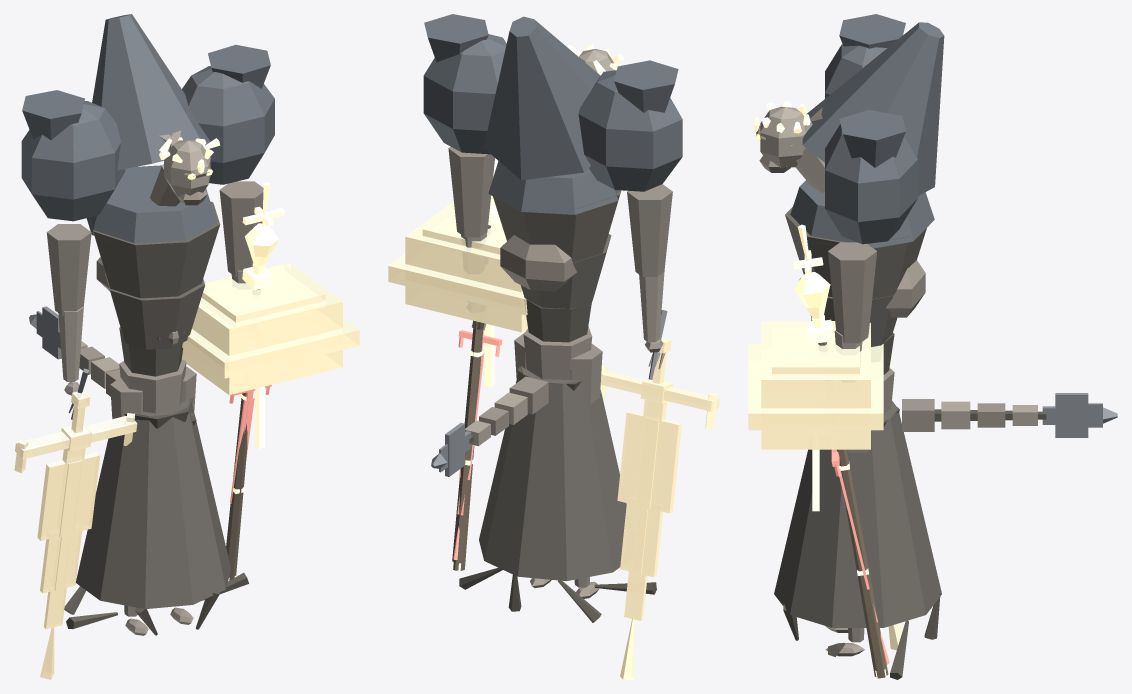
The model's file is morgott.glb.
The picture shows the model from 3 angles, left to right: view 1: azimuth 30°, elevation 25°; view 2: azimuth 150°, elevation 25°; view 3: azimuth 270°, elevation 25°; orthographic projection. The views are drawn at different scales.
Parts seen in each view (by area): view 1: robe0, cloak, capL, hammerHead, capR, tChest, tCollar, hammerFace, tBelly, hammerCrown, armLUpper, gbladeA (+22 smaller); view 2: robe0, cloak, capL, capR, hammerHead, tChest, tCollar, gbladeA, armLUpper, armRUpper, hammerFace, tBack (+22 smaller); view 3: robe0, cloak, capR, hammerHead, hammerFace, armRUpper, hammerCrown, tChest, tCollar, cowlR, staffShaft, skull (+9 smaller).
Boxes of the visible parts, <box> form: robe0: <box>76,399,231,608</box>; cloak: <box>92,14,210,170</box>; capL: <box>21,101,125,221</box>; hammerHead: <box>182,264,342,394</box>; capR: <box>182,66,274,184</box>; tChest: <box>90,201,220,298</box>; tCollar: <box>86,165,216,243</box>; hammerFace: <box>182,318,359,378</box>; tBelly: <box>105,273,204,349</box>; hammerCrown: <box>201,264,325,322</box>; armLUpper: <box>46,224,91,315</box>; gbladeA: <box>37,452,100,540</box>; robe0: <box>479,366,626,580</box>; cloak: <box>483,16,600,180</box>; capL: <box>578,70,682,191</box>; capR: <box>423,34,506,154</box>; hammerHead: <box>405,201,527,332</box>; tChest: <box>493,190,621,262</box>; tCollar: <box>488,161,618,214</box>; gbladeA: <box>617,411,681,513</box>; armLUpper: <box>627,184,672,276</box>; armRUpper: <box>448,146,494,237</box>; hammerFace: <box>388,254,527,315</box>; tBack: <box>500,235,576,291</box>; robe0: <box>774,401,941,627</box>; cloak: <box>802,22,944,195</box>; capR: <box>825,124,917,244</box>; hammerHead: <box>761,321,870,449</box>; hammerFace: <box>748,344,883,430</box>; armRUpper: <box>828,242,877,343</box>; hammerCrown: <box>772,321,859,373</box>; tChest: <box>785,207,926,298</box>; tCollar: <box>790,180,934,248</box>; cowlR: <box>839,110,905,167</box>; staffShaft: <box>818,342,888,678</box>; skull: <box>760,106,805,168</box>.
Size of the model in its own units: 2 by 4.04 by 2.02.
